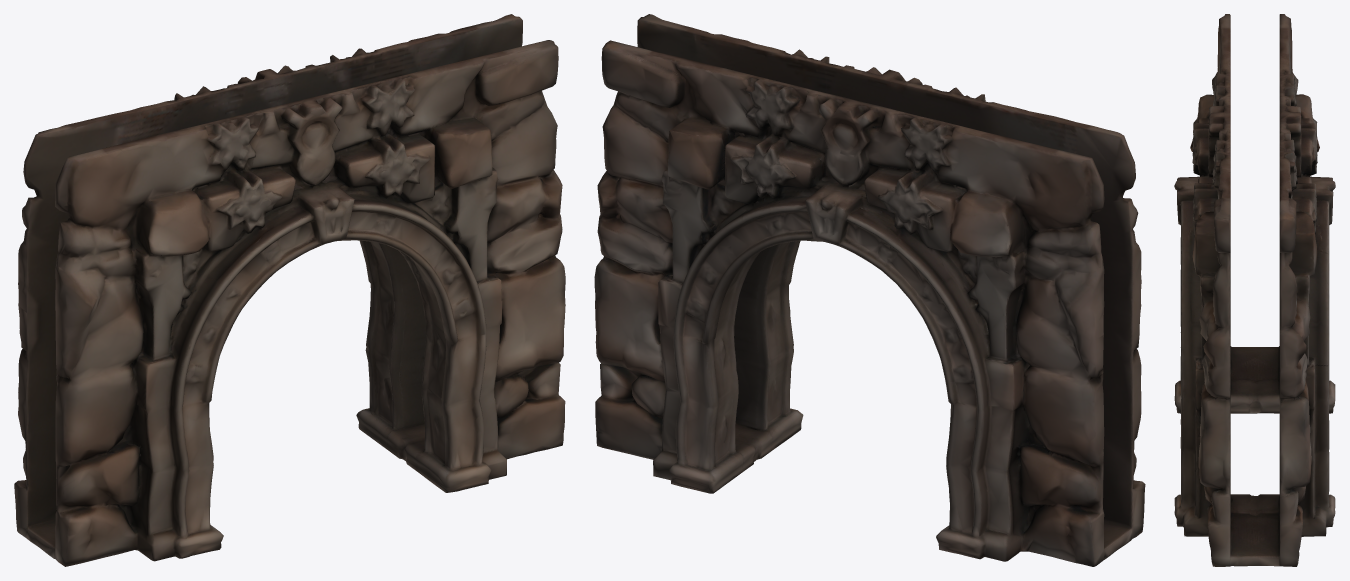
File: portal_fire.glb
3 views of the same model, side by side, from view 1: azimuth 30°, elevation 25°; view 2: azimuth 150°, elevation 25°; view 3: azimuth 270°, elevation 25° (orthographic). The views are drawn at different scales.
Bounding box in the file's own units: 2 × 1.54 × 0.6466.
Materials: 1 (1 with a texture image).
